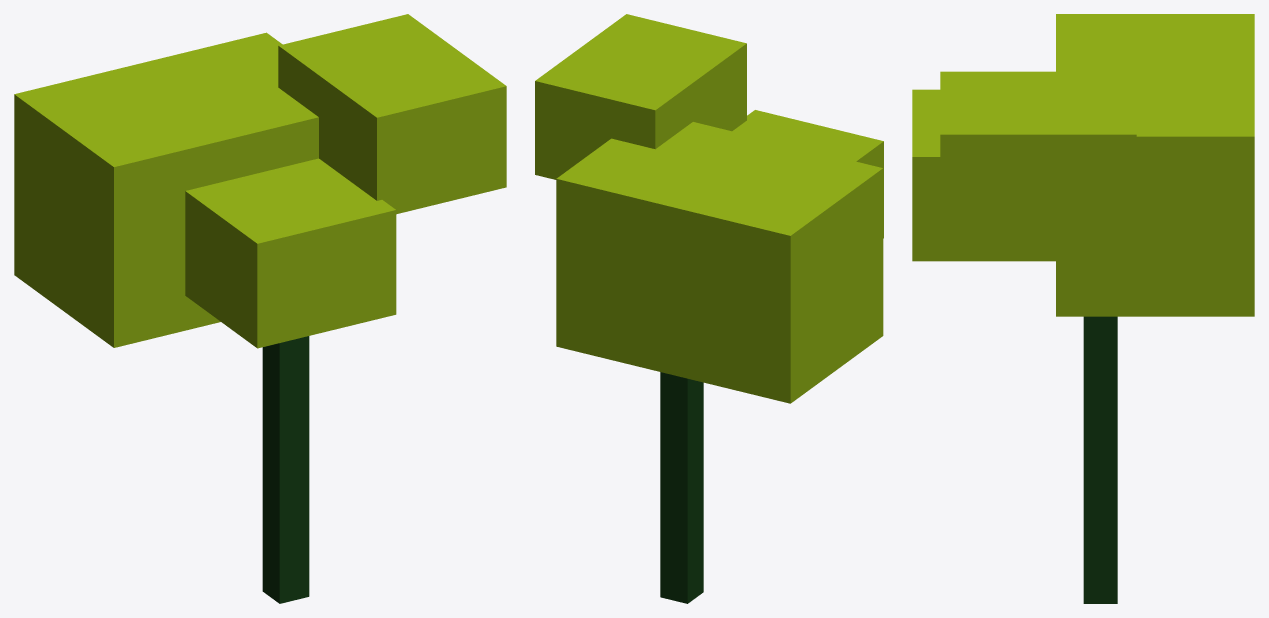
The model's file is tree1.obj.
3 renders of one model, left to right at view 1: azimuth 30°, elevation 25°; view 2: azimuth 150°, elevation 25°; view 3: azimuth 270°, elevation 25°, orthographic. The views are drawn at different scales.
Parts seen in each view (by area): view 1: Cube; view 2: Cube; view 3: Cube.
Part boxes in pixels (bbox=[...]): Cube: bbox=[14, 14, 506, 603]; Cube: bbox=[535, 14, 883, 603]; Cube: bbox=[912, 14, 1254, 603].
Size of the model in its own units: 0.9632 by 1.47 by 0.8571.
